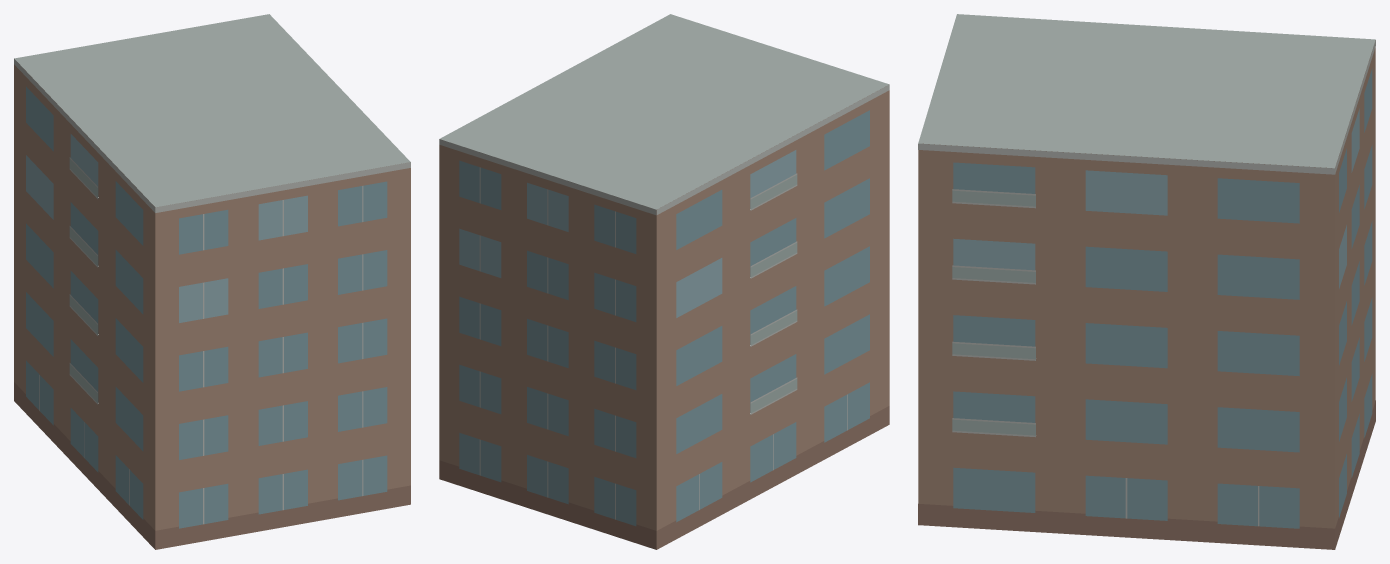
File: survey-upis-32888454.glb
3 views of the same model, side by side, from view 1: azimuth 30°, elevation 25°; view 2: azimuth 150°, elevation 25°; view 3: azimuth 270°, elevation 25° (orthographic). The views are drawn at different scales.
Parts seen in each view (by area): view 1: survey-upis-32888454.tmp; view 2: survey-upis-32888454.tmp; view 3: survey-upis-32888454.tmp.
Boxes of the visible parts, <box> form: survey-upis-32888454.tmp: <box>14,14,410,549</box>; survey-upis-32888454.tmp: <box>439,14,889,549</box>; survey-upis-32888454.tmp: <box>918,14,1375,549</box>.
Size of the model in its own units: 12.58 by 14.5 by 15.77.
